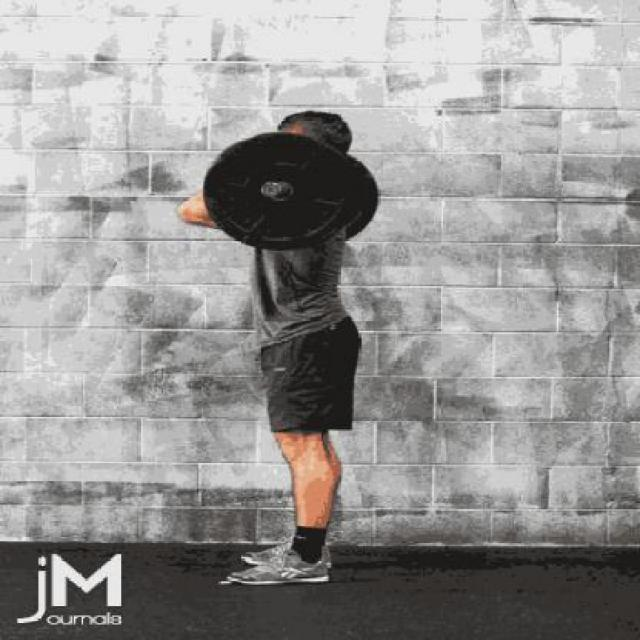Barbell: (254, 179, 288, 201)
